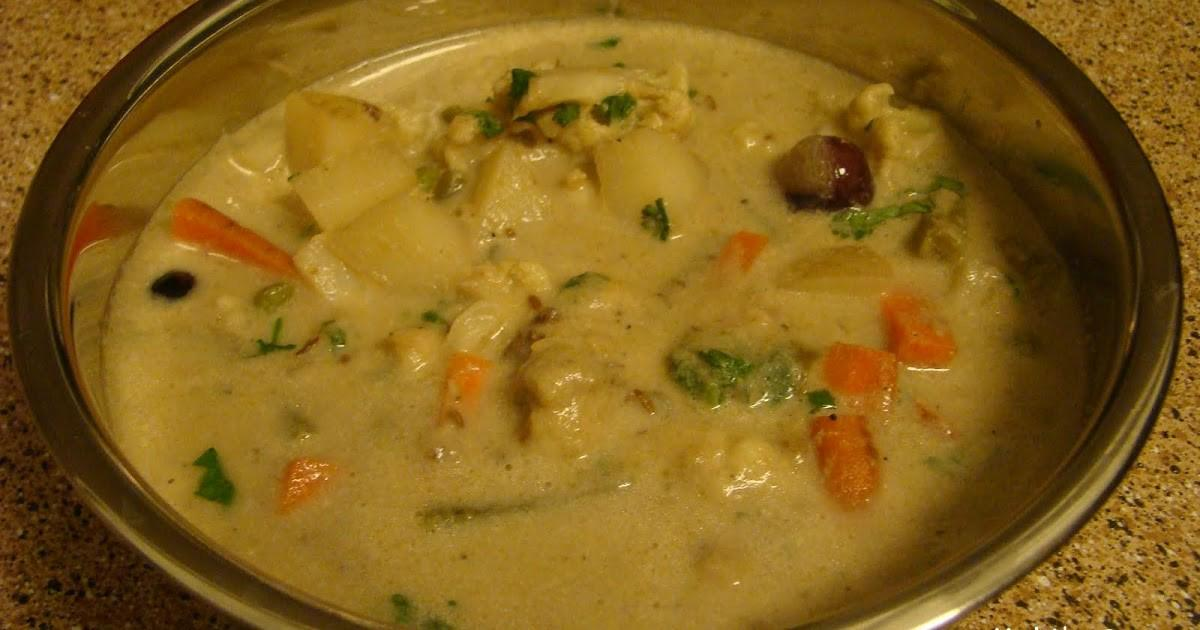ShahiPaneer: (93, 21, 1098, 630)
